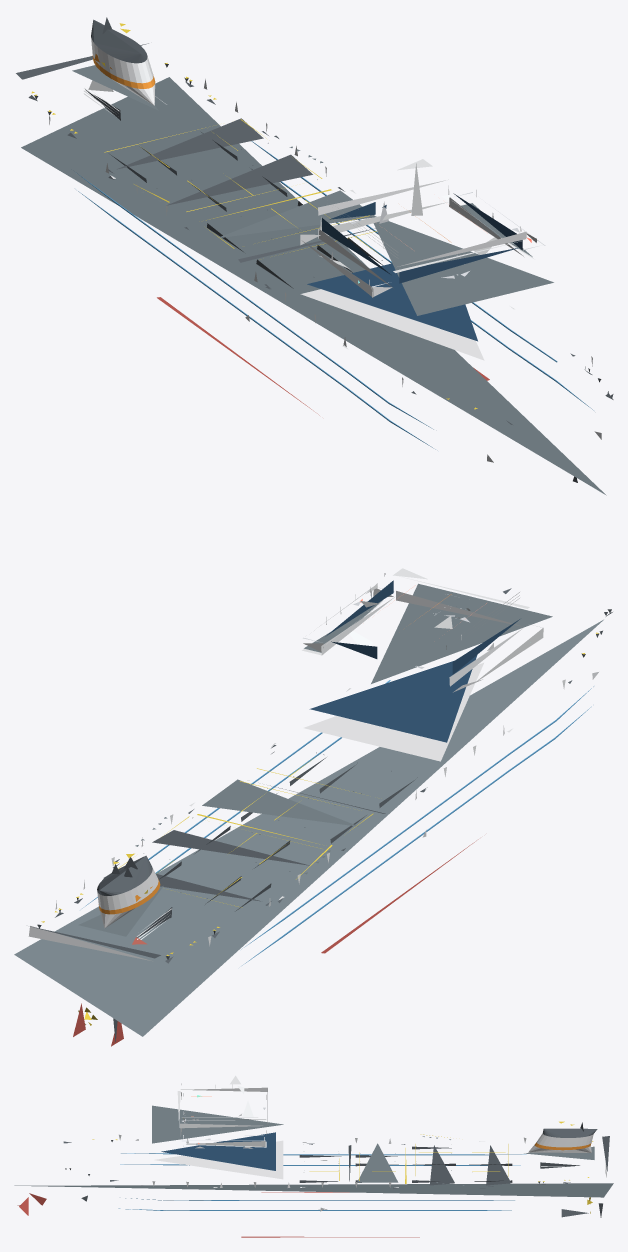
Rendered from ship_11.glb.
3 renders of one model, top to bottom at view 1: azimuth 30°, elevation 25°; view 2: azimuth 150°, elevation 25°; view 3: azimuth 270°, elevation 25°, orthographic. The views are drawn at different scales.
Parts seen in each view (by area): view 1: TrueHelm_Ship_11; view 2: TrueHelm_Ship_11; view 3: TrueHelm_Ship_11.
Part boxes in pixels (<box>): TrueHelm_Ship_11: <box>16,17,613,495</box>; TrueHelm_Ship_11: <box>14,568,612,1046</box>; TrueHelm_Ship_11: <box>14,1075,613,1237</box>.
Bounding box in the file's own units: 0.1298 × 0.1716 × 0.6702.
